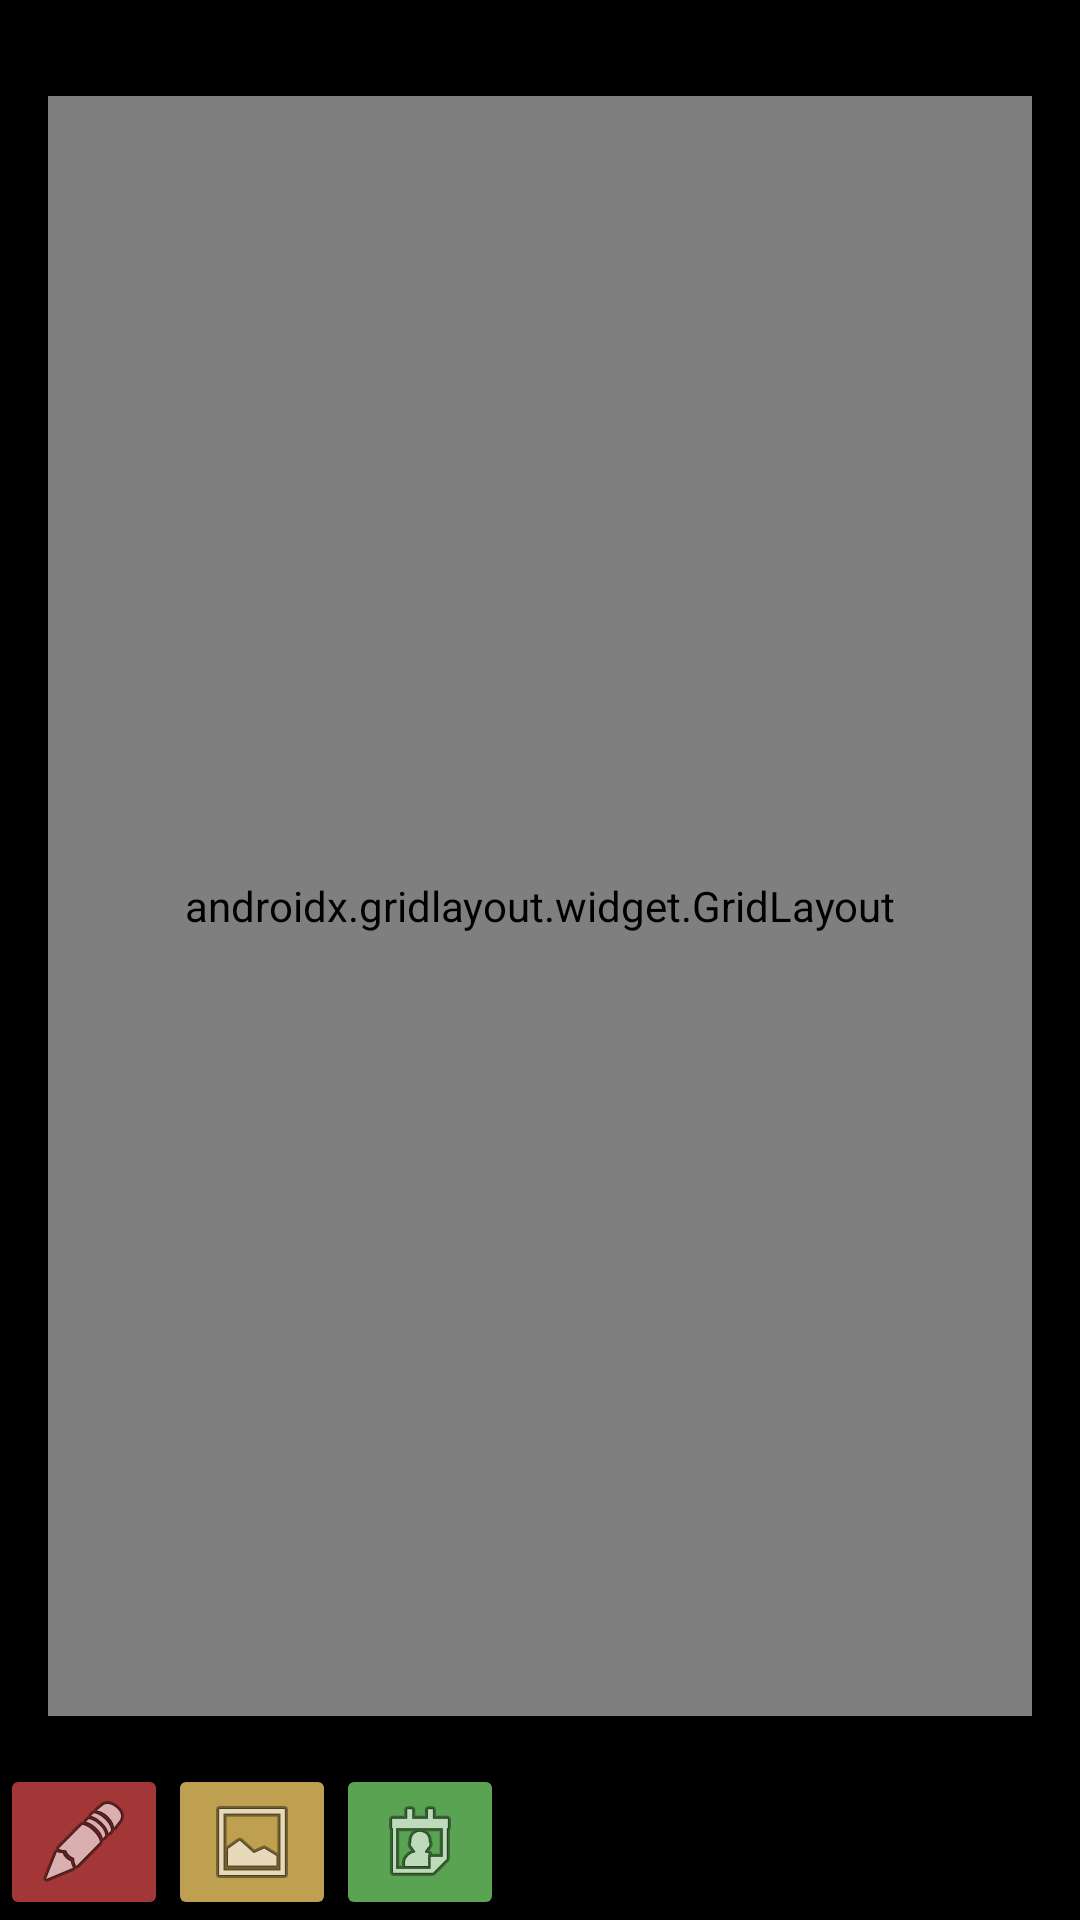

Where icons sit on this 1080 × 1920 app screen, as region(x1, y1, x2, y2):
calendar: region(348, 1782, 492, 1902)
edit: region(12, 1782, 156, 1902)
gallery: region(180, 1782, 324, 1902)
